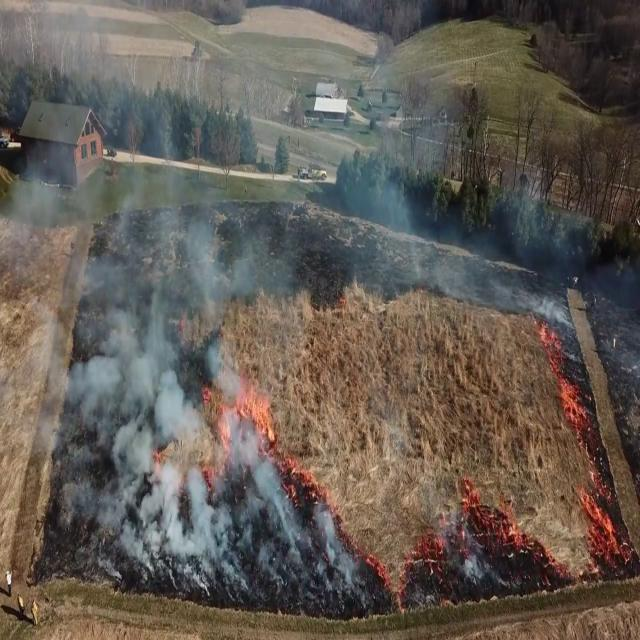Fire: (230, 371, 278, 453)
Smoke: (6, 103, 334, 591)
